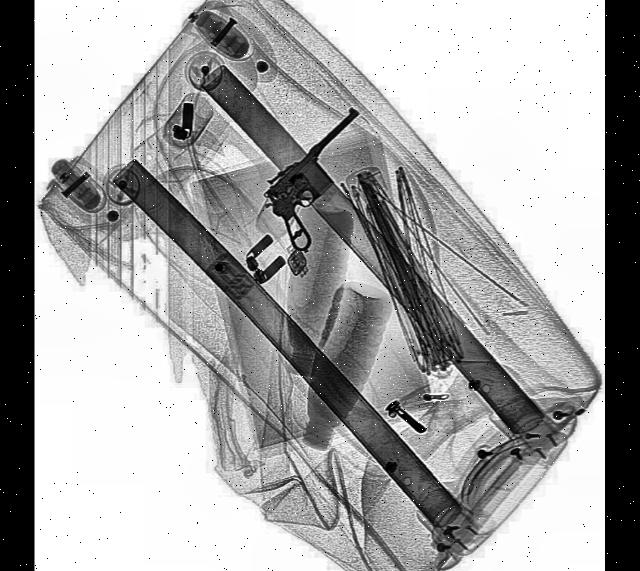Gun: (261, 106, 396, 258)
